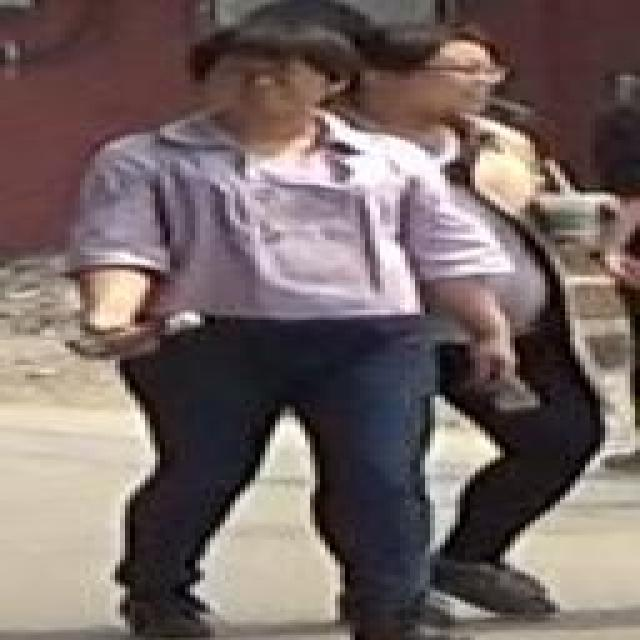adult: (74, 22, 490, 640), (332, 20, 615, 618)
